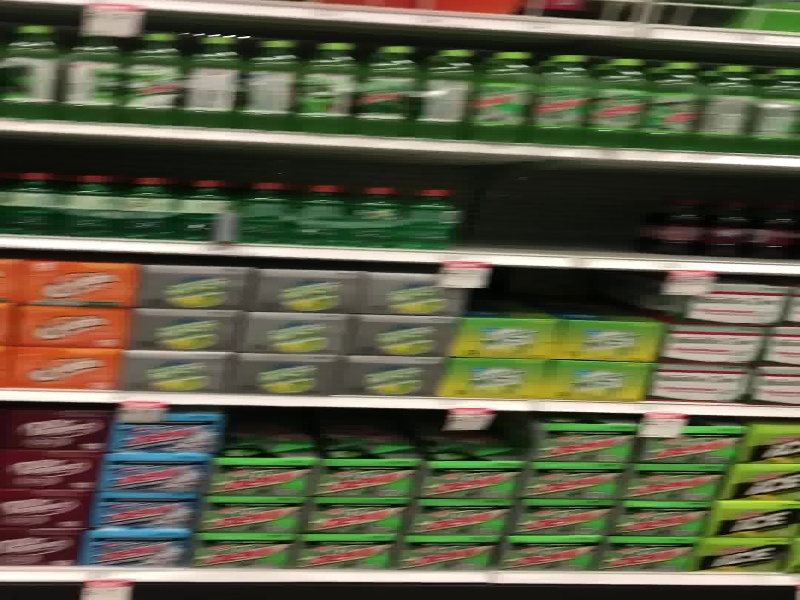empty_shelf_space: (464, 159, 645, 256)
